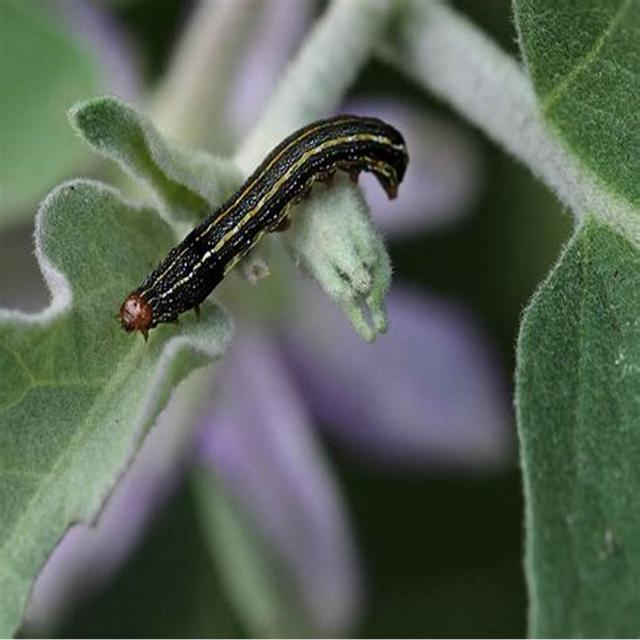armyworm: (94, 82, 420, 355)
